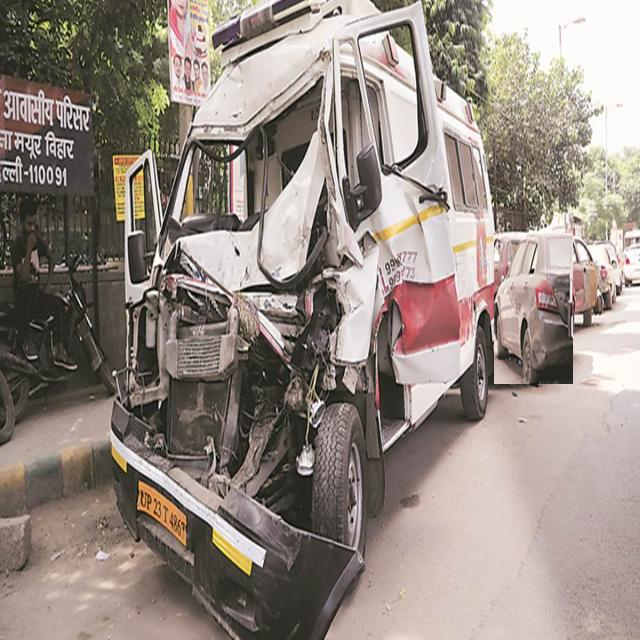accident: (111, 0, 498, 636)
car: (496, 232, 575, 385), (495, 234, 573, 384)
motorcycle: (0, 198, 116, 442)
